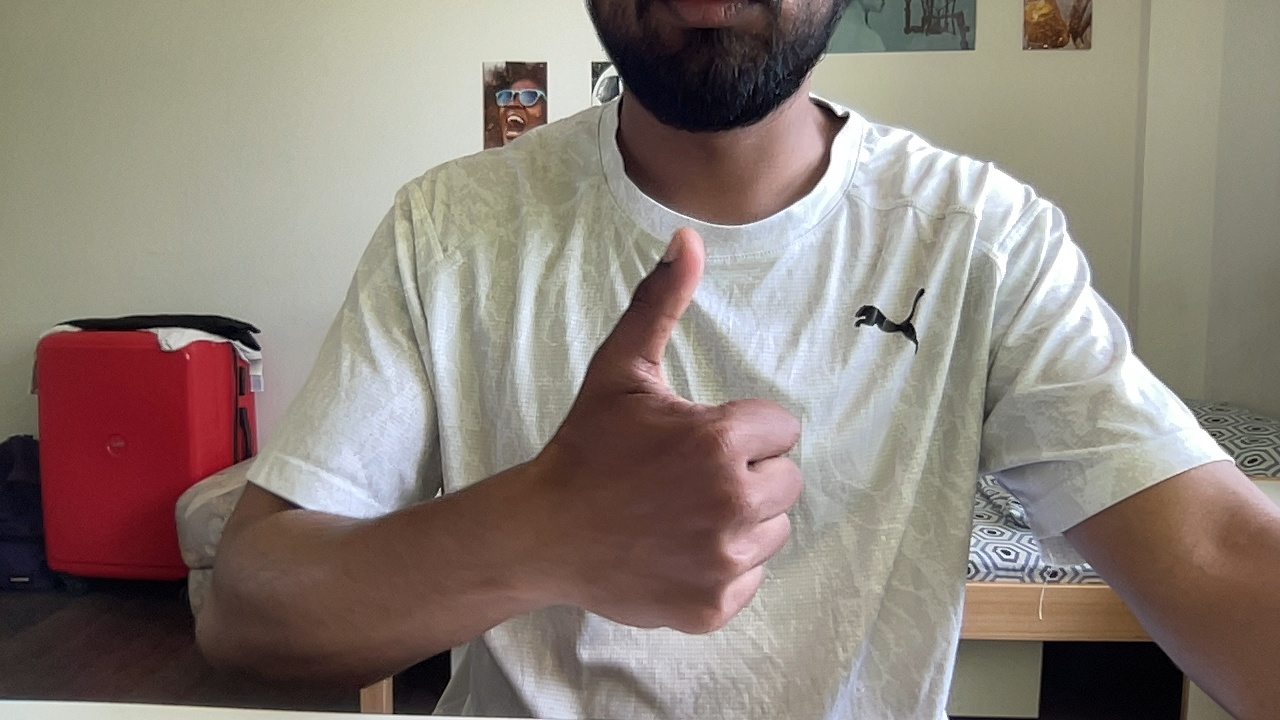ThumbsUp: (560, 225, 803, 638)
